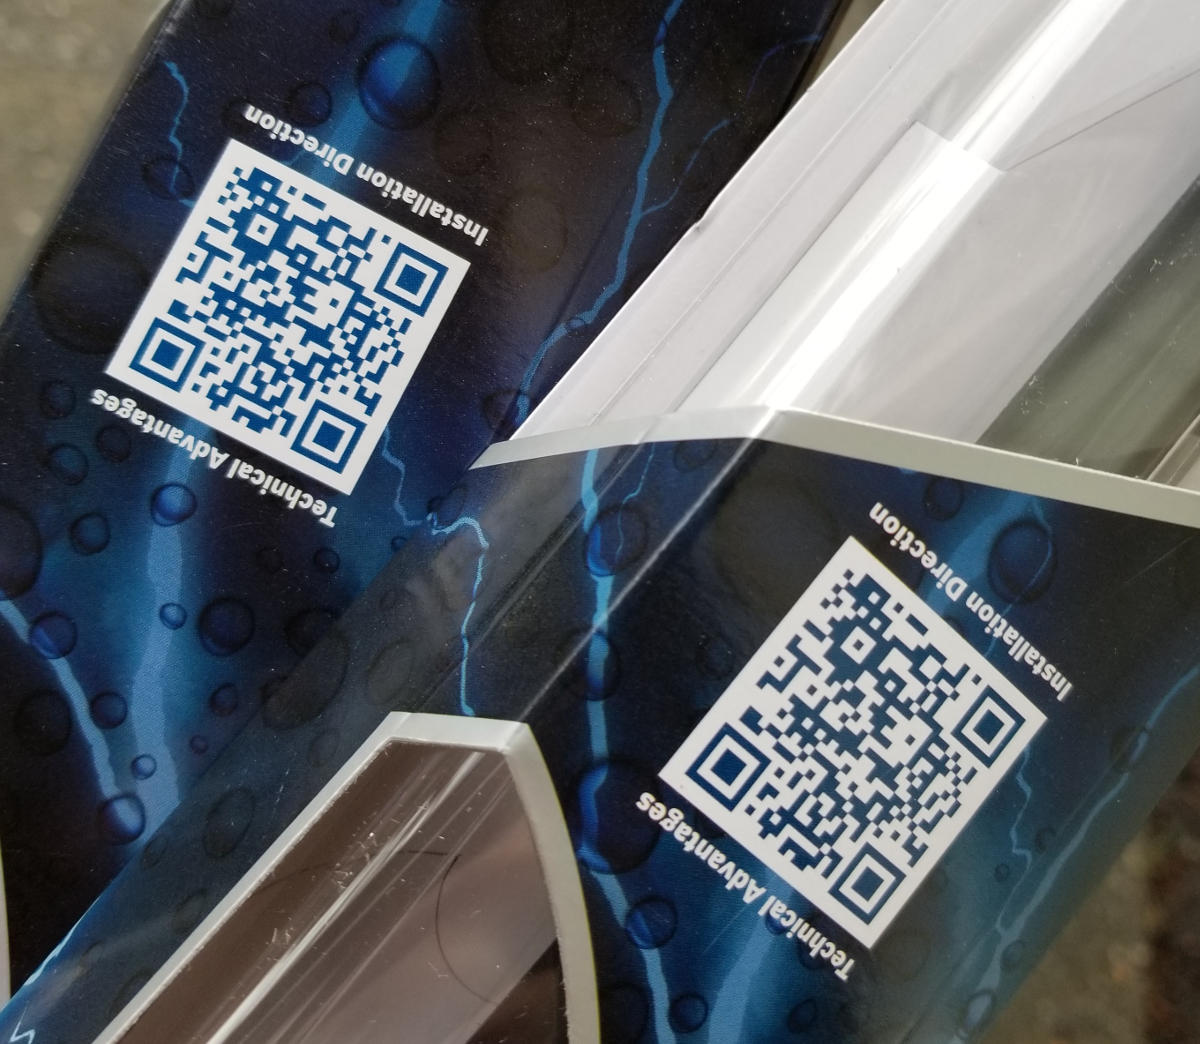QR_CODE: (650, 500, 1048, 941), (101, 126, 472, 504)
